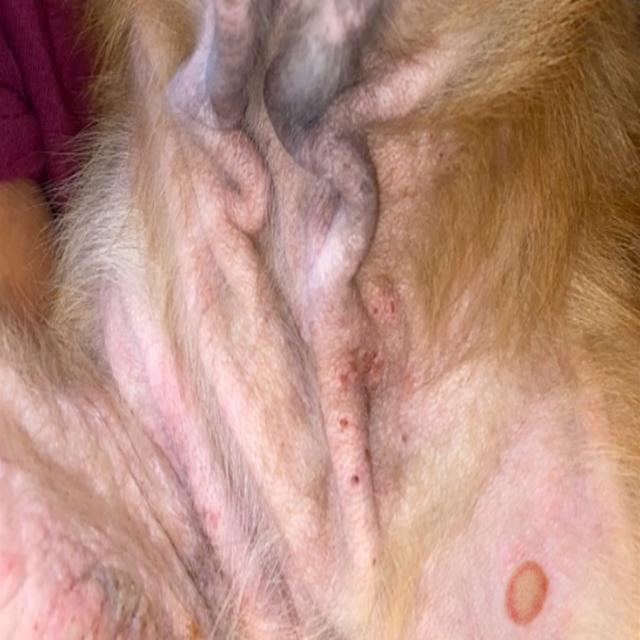ringworm: (494, 545, 551, 626)
